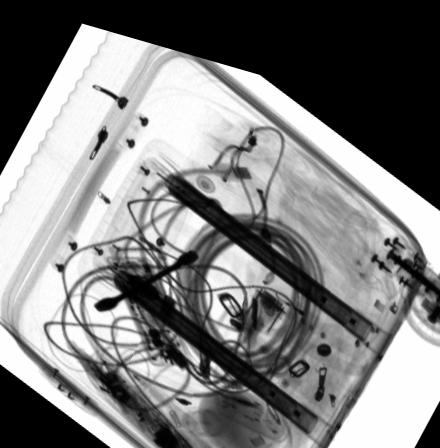Wrench: (92, 237, 199, 305)
